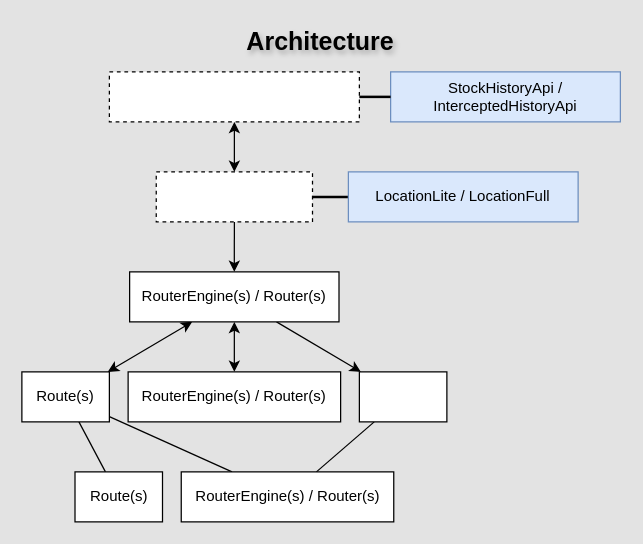
This 643x544 diagram has some shape labels left out. Here are the shapes that lost their labels. From the top down, the centre of each, then its label:
the point at 233,96: HistoryApi / FullHistoryApi
the point at 233,196: Location
the point at 402,396: Fallback(s)
